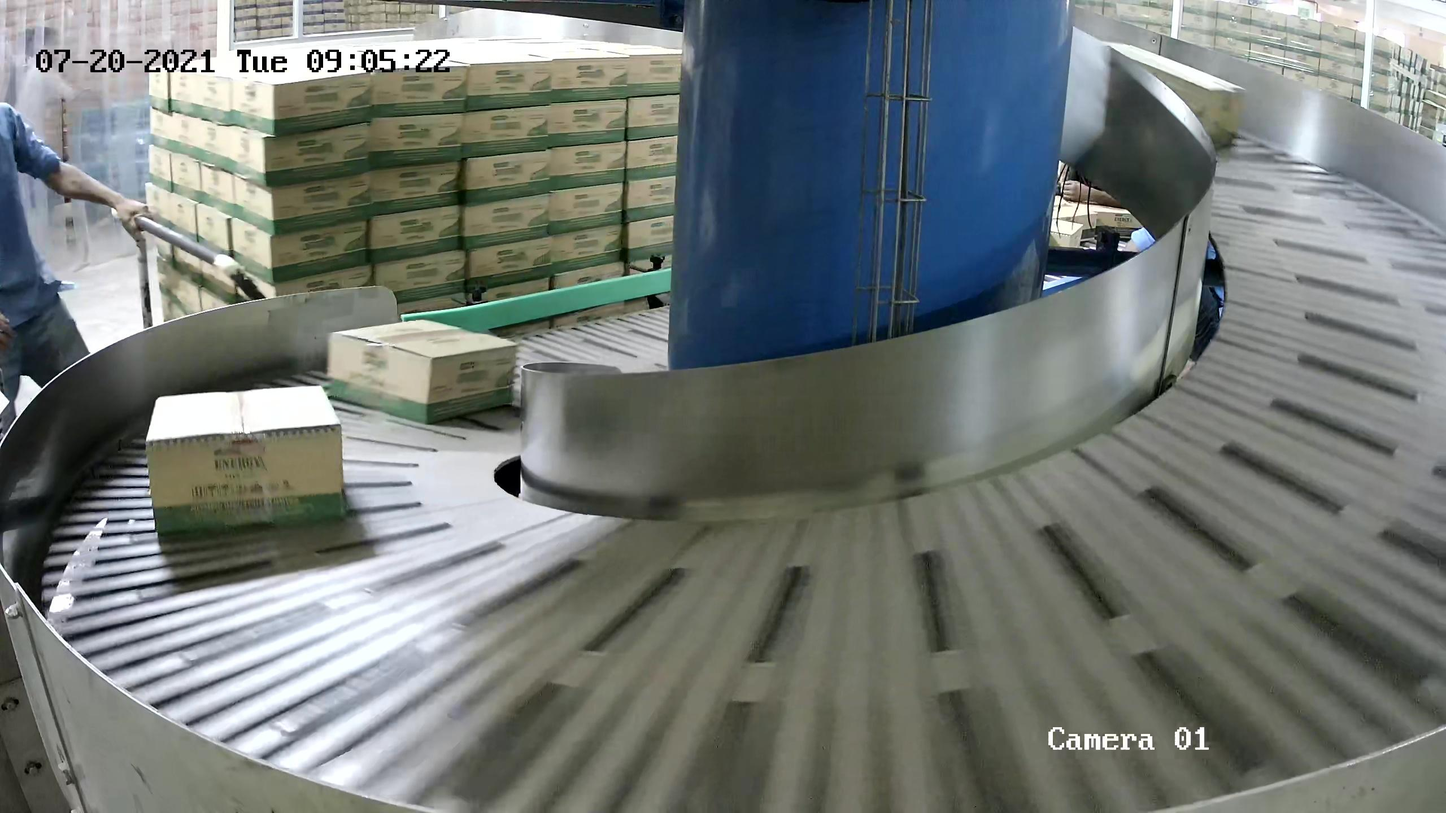Box: (144, 384, 348, 533), (326, 317, 520, 424)
